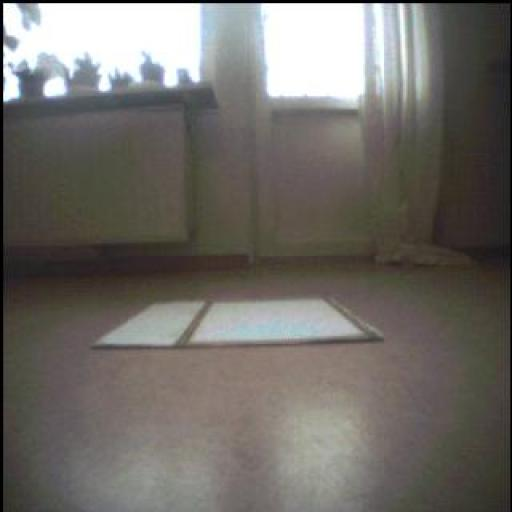Pad: (96, 291, 371, 350)
